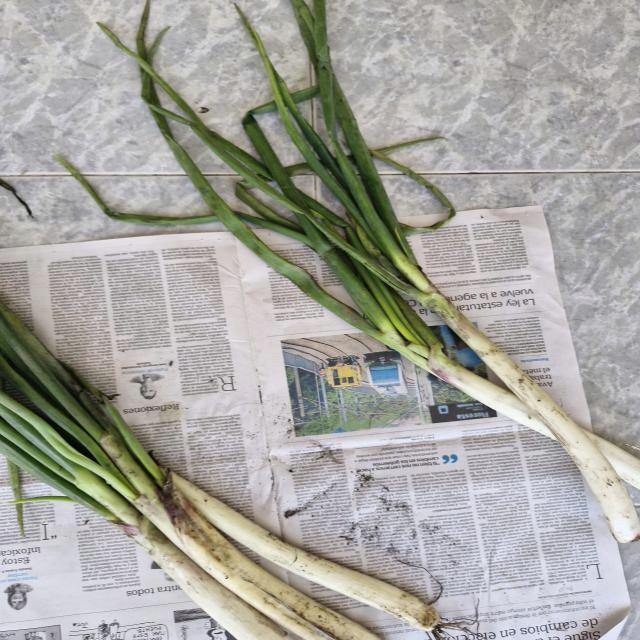green_onion: (103, 0, 639, 535)
